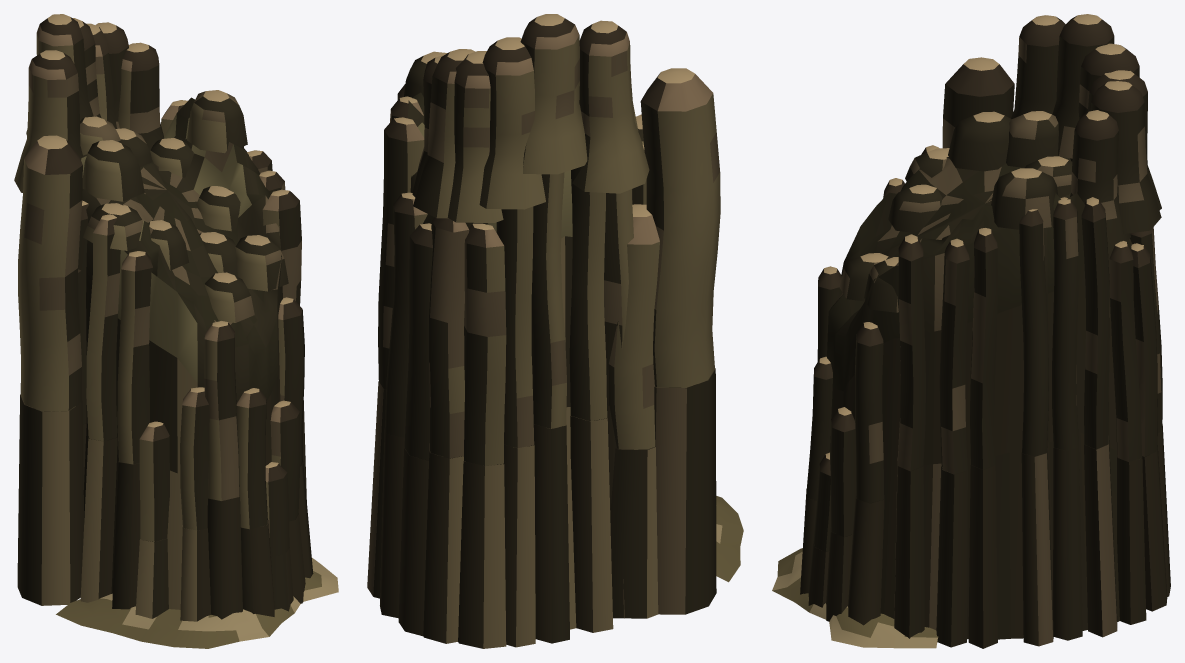
The model's file is ZonTmound05.glb.
3 renders of one model, left to right at view 1: azimuth 30°, elevation 25°; view 2: azimuth 150°, elevation 25°; view 3: azimuth 270°, elevation 25°, orthographic. The views are drawn at different scales.
Parts seen in each view (by area): view 1: mound_core; view 2: mound_core; view 3: mound_core.
Boxes of the visible parts, box(x1,y1,x2,y2) form: mound_core: box(14, 14, 338, 648); mound_core: box(367, 14, 743, 648); mound_core: box(772, 14, 1170, 648).
Bounding box in the file's own units: 3.88 × 7.4 × 4.91.
